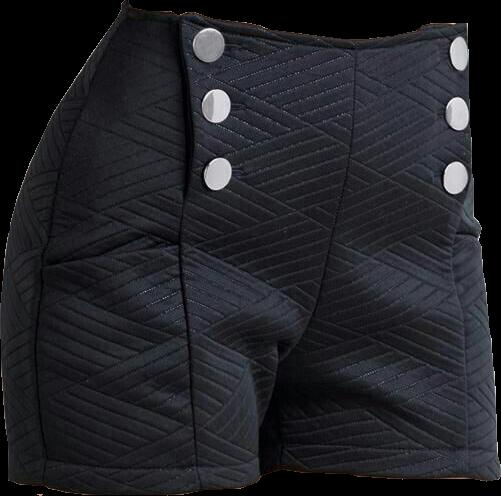Hemline: (5, 466, 264, 495), (263, 464, 500, 481)
Pantleg: (0, 0, 357, 494), (261, 23, 499, 480)
Waistline: (123, 0, 465, 45)
